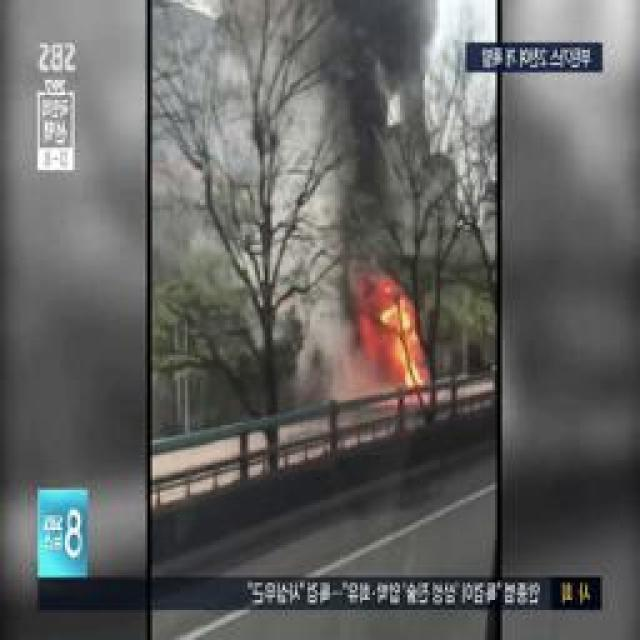Fire: (352, 286, 431, 386)
